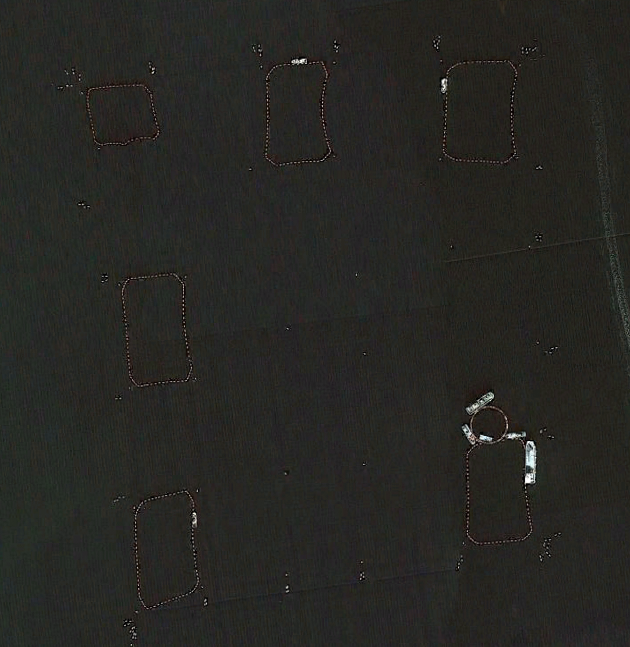circle: (462, 396, 515, 447)
ship: (460, 379, 496, 419), (522, 436, 540, 488), (451, 422, 478, 445), (500, 426, 530, 442), (289, 49, 310, 69), (435, 73, 450, 96), (477, 429, 494, 445), (188, 509, 200, 531)
square: (111, 262, 206, 399), (124, 483, 217, 617), (438, 52, 527, 171), (258, 55, 346, 172), (464, 428, 537, 549), (75, 79, 174, 149)
